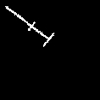double_crochet: (5, 6, 53, 45)
